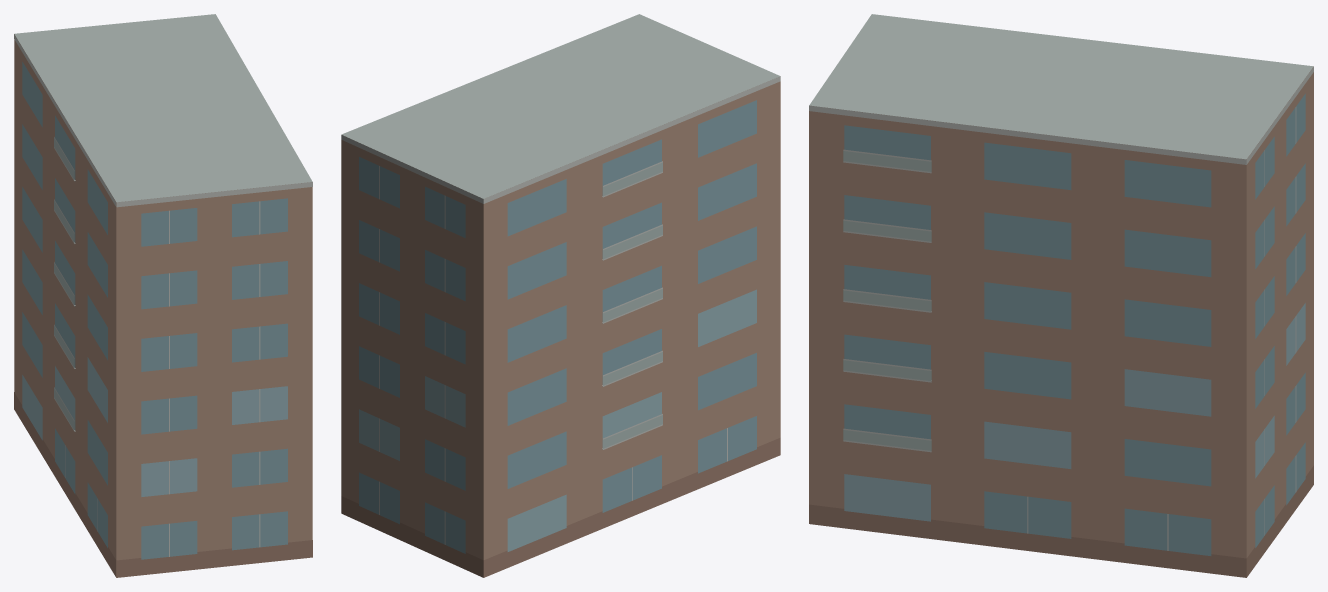
Rendered from survey-upis-32882076.glb.
3 renders of one model, left to right at view 1: azimuth 30°, elevation 25°; view 2: azimuth 150°, elevation 25°; view 3: azimuth 270°, elevation 25°, orthographic. The views are drawn at different scales.
Visible parts, largest first — view 1: survey-upis-32882076.tmp; view 2: survey-upis-32882076.tmp; view 3: survey-upis-32882076.tmp.
Part boxes in pixels (x1,y1,x2,y2): survey-upis-32882076.tmp: (14,14,312,577); survey-upis-32882076.tmp: (341,14,780,577); survey-upis-32882076.tmp: (809,14,1313,577).
Size of the model in its own units: 13.65 by 18.3 by 20.01.
